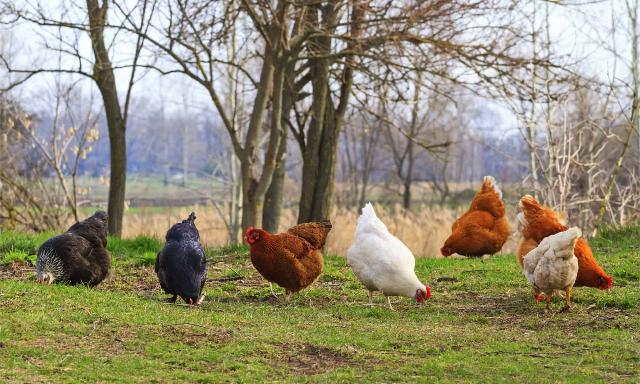Chicken: (518, 193, 614, 291), (350, 201, 433, 311), (245, 220, 333, 297), (36, 210, 111, 288), (441, 175, 512, 257), (525, 228, 582, 311), (156, 214, 205, 307)
